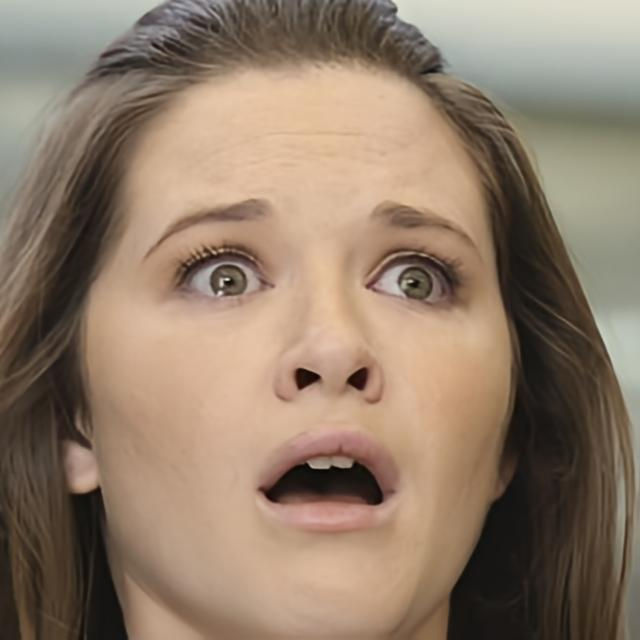fear: (86, 61, 524, 638)
